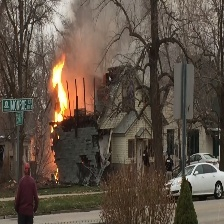fire: (50, 53, 68, 130)
